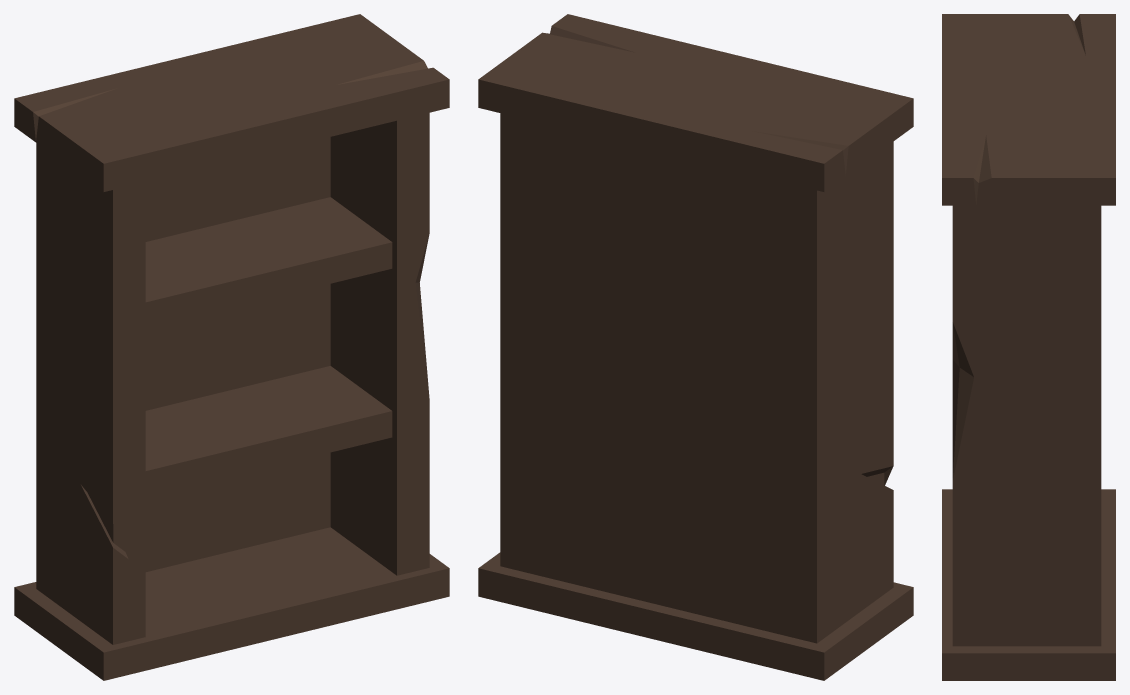
File: bookshelf.fbx
The picture shows the model from 3 angles, left to right: view 1: azimuth 30°, elevation 25°; view 2: azimuth 150°, elevation 25°; view 3: azimuth 270°, elevation 25°; orthographic projection. The views are drawn at different scales.
Visible parts, largest first — view 1: bookshelf; view 2: bookshelf; view 3: bookshelf.
Part boxes in pixels (x1,y1,x2,y2): bookshelf: (14,14,449,680); bookshelf: (478,14,913,680); bookshelf: (942,14,1115,680).
Size of the model in its own units: 141 by 201 by 63.11.
